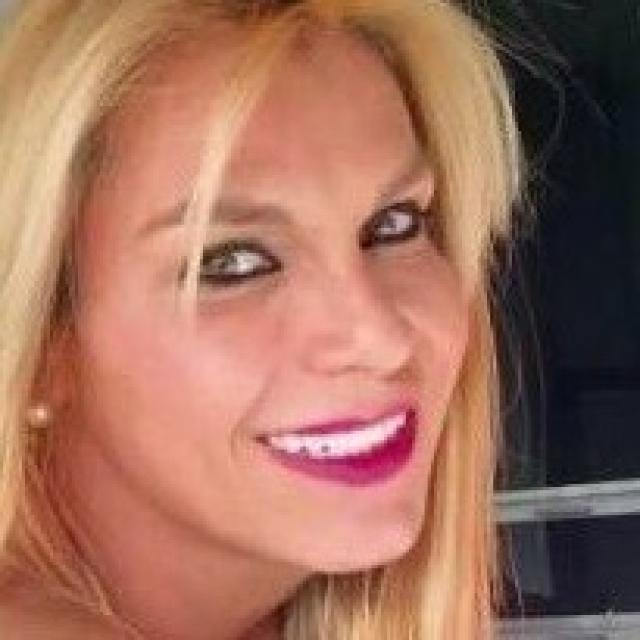Normal: (74, 25, 472, 572)
